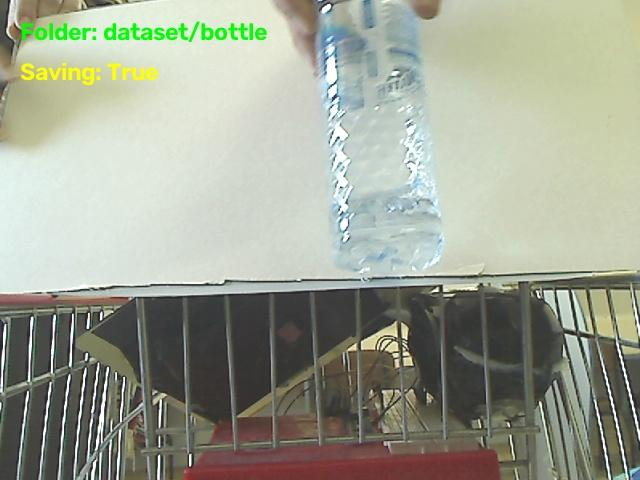Bottle: (317, 0, 442, 274)
